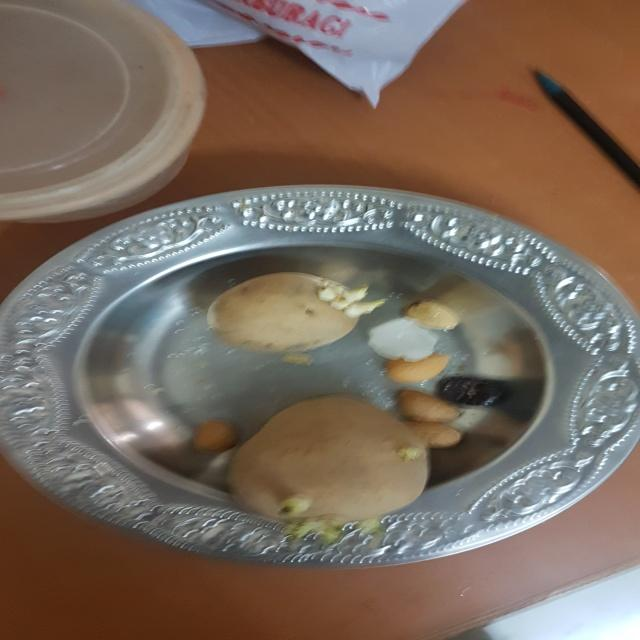potato: (222, 389, 437, 544), (206, 262, 376, 361)
